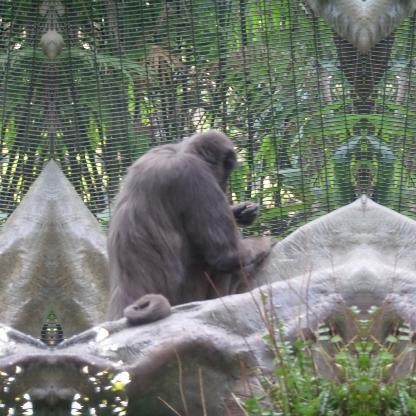Monkey: (98, 126, 280, 322)
